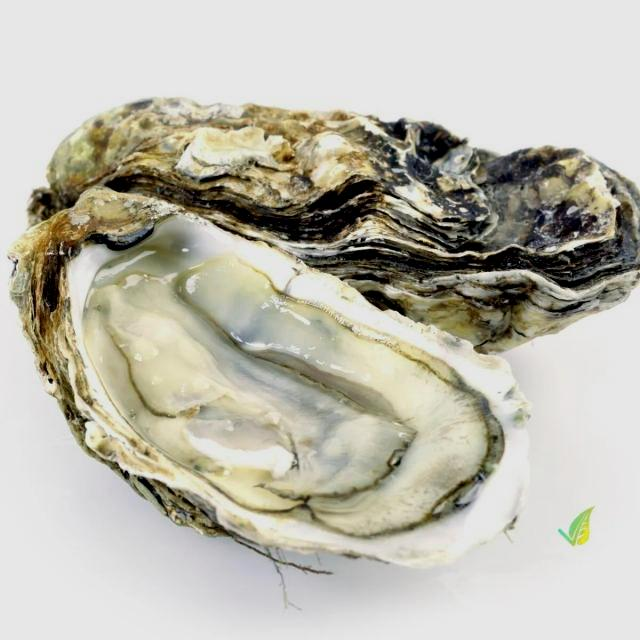Oyster-Closed: (30, 98, 640, 294)
Oyster-Open: (12, 186, 529, 566)
